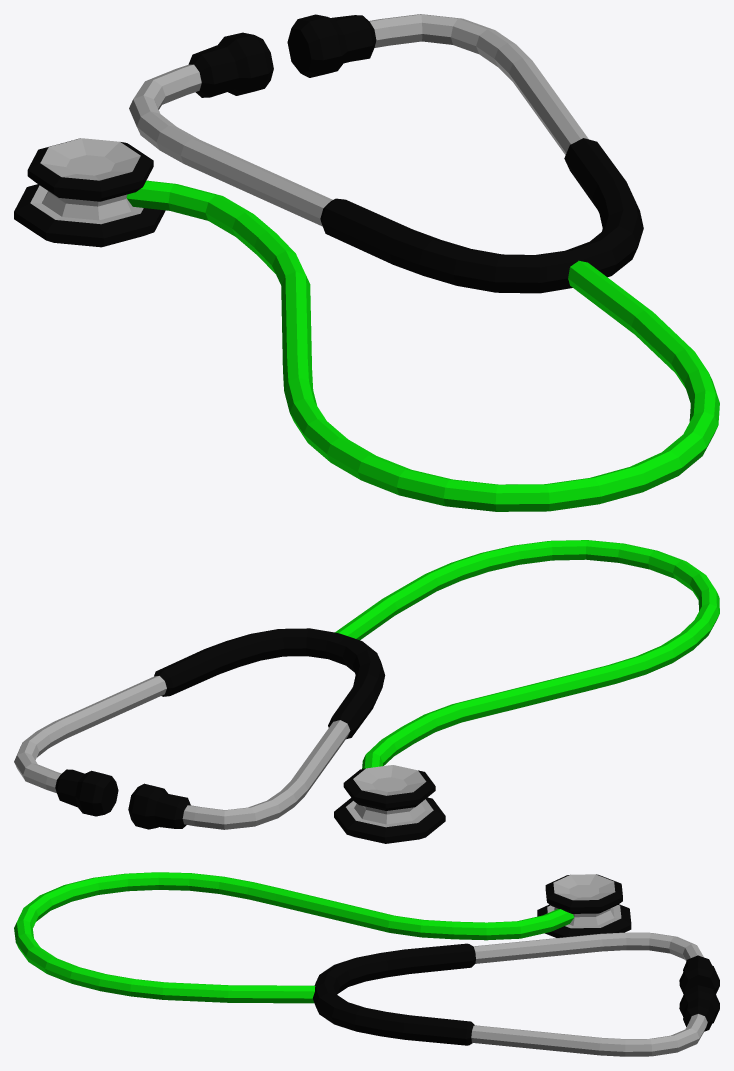
The model's file is Stethoscope.fbx.
3 views of the same model, one above another, from view 1: azimuth 30°, elevation 25°; view 2: azimuth 150°, elevation 25°; view 3: azimuth 270°, elevation 25° (orthographic). The views are drawn at different scales.
Visible parts, largest first — view 1: stethoscope; view 2: stethoscope; view 3: stethoscope.
Part boxes in pixels (bbox=[...]): stethoscope: bbox=[14, 14, 719, 511]; stethoscope: bbox=[14, 540, 719, 843]; stethoscope: bbox=[14, 872, 719, 1056].
Size of the model in its own units: 2.64 by 0.2776 by 4.5.
